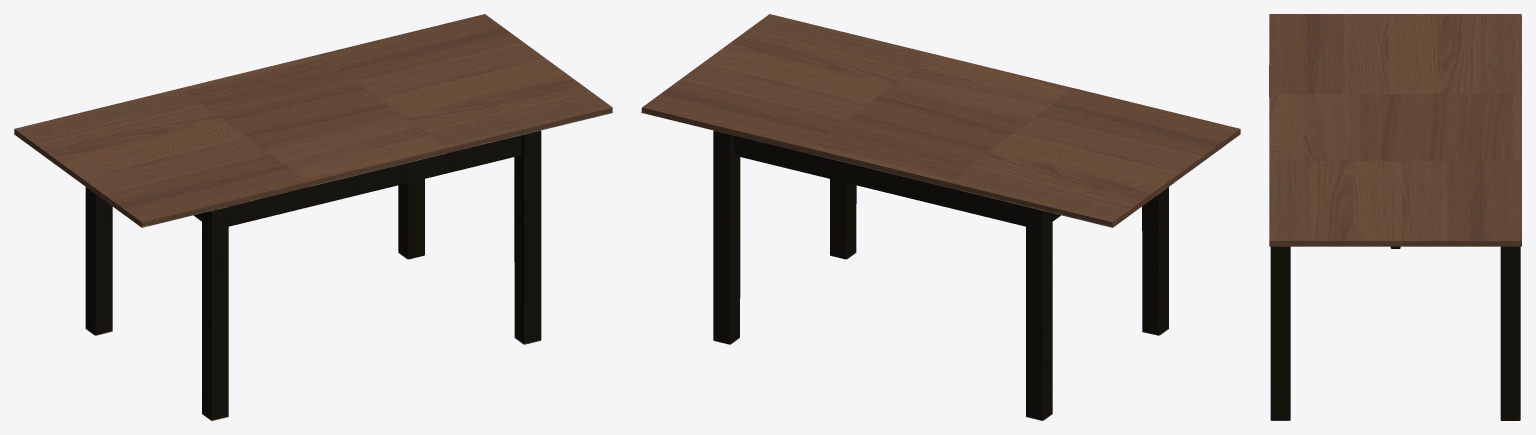
The model's file is 20 - ÅLHULT Extendable table - blackbrown 120170x80 cm.glb.
3 views of the same model, side by side, from view 1: azimuth 30°, elevation 25°; view 2: azimuth 150°, elevation 25°; view 3: azimuth 270°, elevation 25° (orthographic).
Parts seen in each view (by area): view 1: ASY_ART_20600789_S01_NV01, ASY_LPT02_20600789_S01_NV01, ASY_LPT03_20600789_S01_NV01, ASY_LPT01_20600789_S01_NV01; view 2: ASY_ART_20600789_S01_NV01, ASY_LPT02_20600789_S01_NV01, ASY_LPT03_20600789_S01_NV01, ASY_LPT01_20600789_S01_NV01; view 3: ASY_LPT03_20600789_S01_NV01, ASY_LPT02_20600789_S01_NV01, ASY_LPT01_20600789_S01_NV01, ASY_ART_20600789_S01_NV01.
Boxes of the visible parts, x1=… form: ASY_ART_20600789_S01_NV01: x1=85, y1=130, x2=541, y2=420; ASY_LPT02_20600789_S01_NV01: x1=14, y1=88, x2=308, y2=227; ASY_LPT03_20600789_S01_NV01: x1=319, y1=14, x2=612, y2=153; ASY_LPT01_20600789_S01_NV01: x1=181, y1=54, x2=446, y2=186; ASY_ART_20600789_S01_NV01: x1=713, y1=130, x2=1168, y2=420; ASY_LPT02_20600789_S01_NV01: x1=946, y1=88, x2=1240, y2=227; ASY_LPT03_20600789_S01_NV01: x1=641, y1=14, x2=935, y2=153; ASY_LPT01_20600789_S01_NV01: x1=808, y1=54, x2=1073, y2=186; ASY_LPT03_20600789_S01_NV01: x1=1269, y1=161, x2=1521, y2=248; ASY_LPT02_20600789_S01_NV01: x1=1269, y1=14, x2=1521, y2=96; ASY_LPT01_20600789_S01_NV01: x1=1269, y1=94, x2=1521, y2=160; ASY_ART_20600789_S01_NV01: x1=1270, y1=246, x2=1520, y2=420.
Bounding box in the file's own units: 1.7 × 0.7493 × 0.7991.
4 materials, 4 textured.
